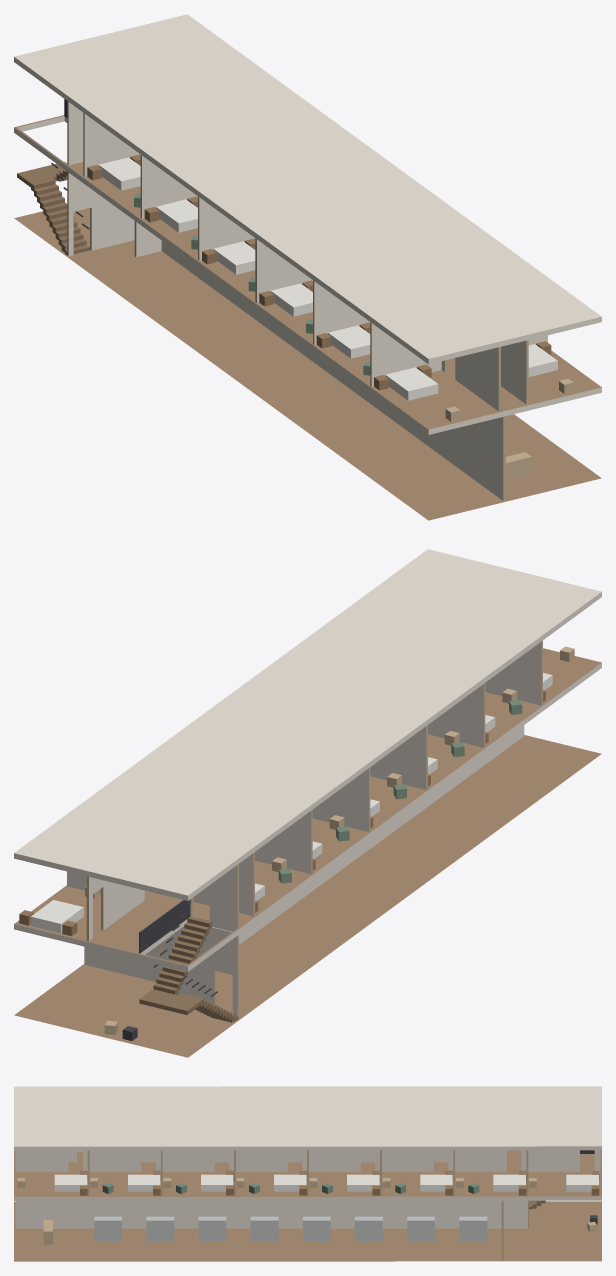
File: interior.glb
3 renders of one model, top to bottom at view 1: azimuth 30°, elevation 25°; view 2: azimuth 150°, elevation 25°; view 3: azimuth 270°, elevation 25°, orthographic. The views are drawn at different scales.
Parts seen in each view (by area): view 1: slabs, partitions, coarse-s1, stair; view 2: slabs, partitions, coarse-s1, stair; view 3: slabs, partitions, coarse-s1, coarse-s0.
Boxes of the visible parts, x1,y1,x2,y2 form: slabs: (14, 14, 601, 520); partitions: (67, 101, 547, 501); coarse-s1: (87, 154, 573, 421); stair: (17, 99, 89, 255); slabs: (14, 549, 601, 1057); partitions: (67, 640, 542, 1018); coarse-s1: (19, 646, 574, 936); stair: (139, 900, 238, 1022); slabs: (14, 1086, 601, 1261); partitions: (15, 1150, 600, 1260); coarse-s1: (17, 1150, 599, 1195); coarse-s0: (43, 1215, 597, 1244).
Bounding box in the file's own units: 8.79 × 7.8 × 36.08.
